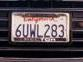2: (44, 24, 51, 37)
3: (58, 24, 65, 37)
6: (15, 23, 22, 37)
8: (51, 24, 57, 38)
L: (37, 23, 43, 38)
U: (22, 24, 29, 37)
W: (29, 23, 36, 38)
